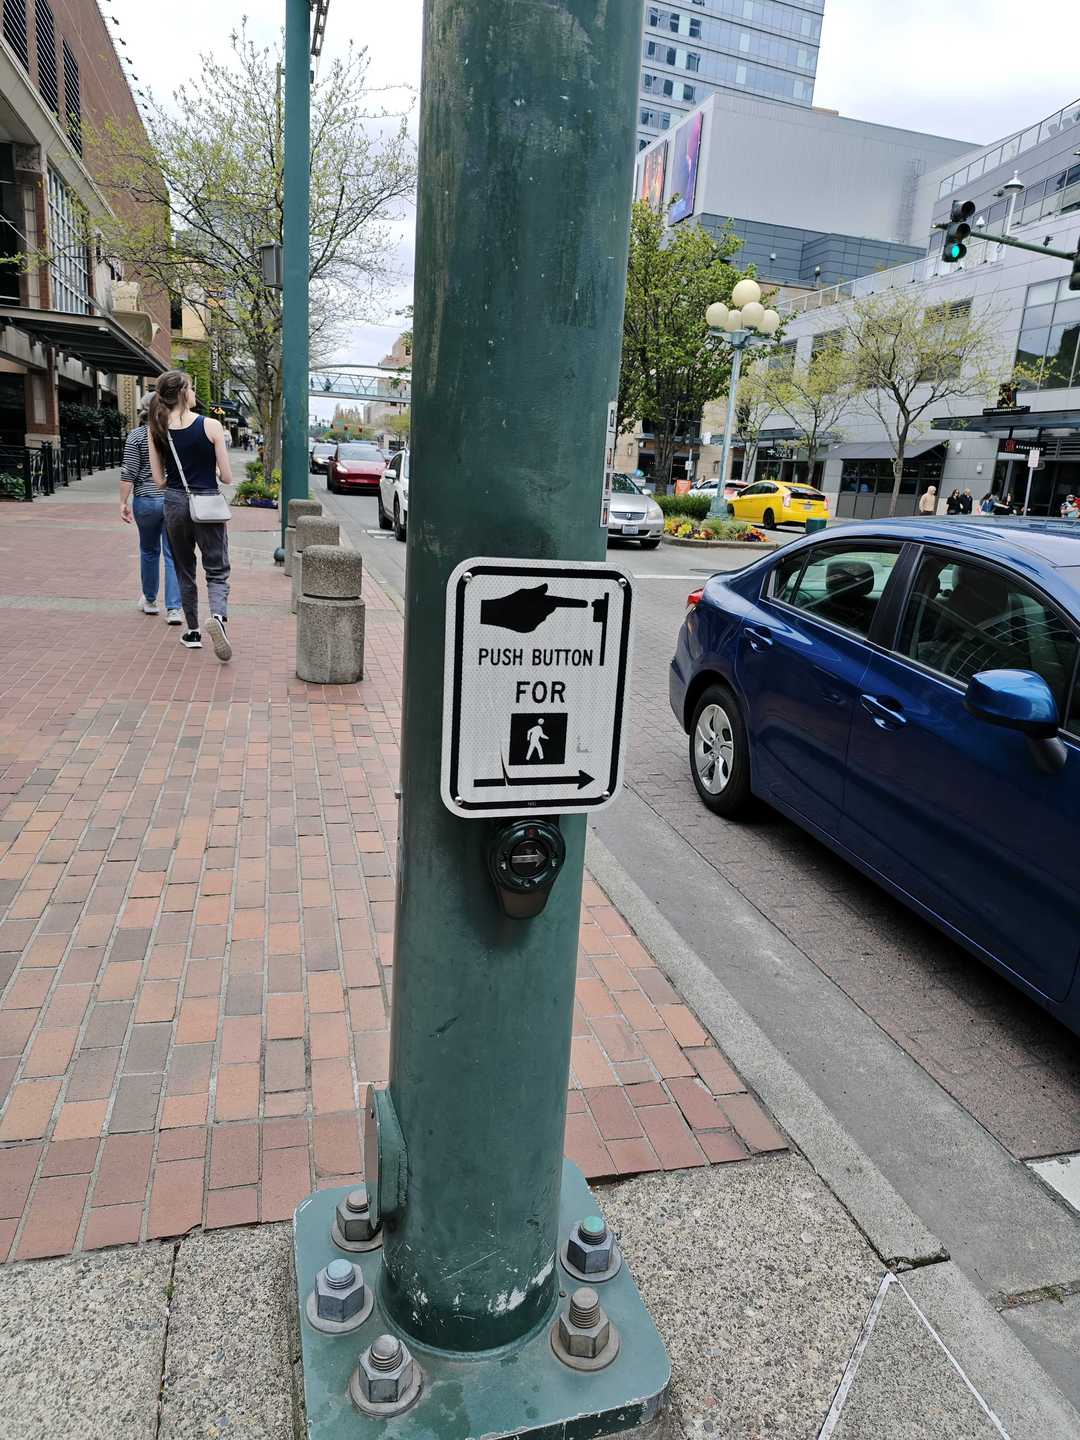ped_button: (441, 554, 639, 920)
